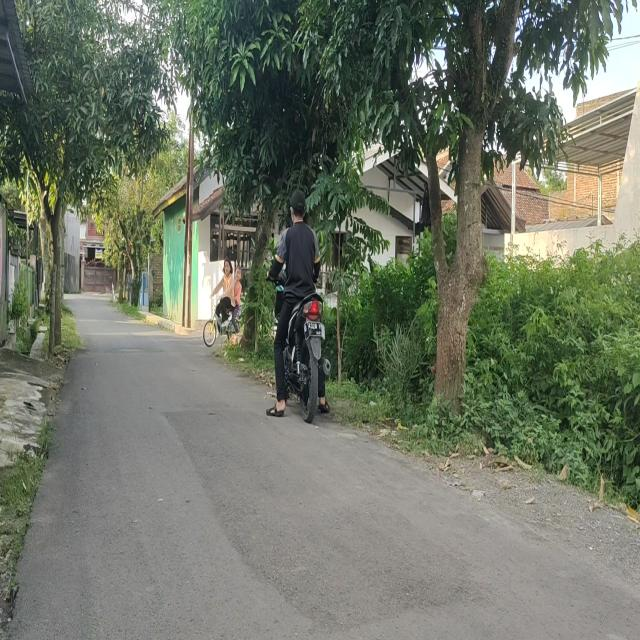no-helmet: (290, 184, 308, 223)
